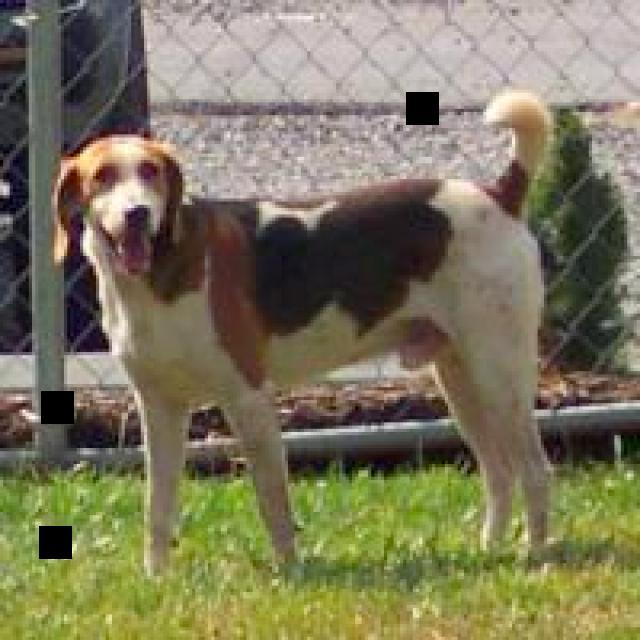adult_dog: (55, 89, 558, 581)
